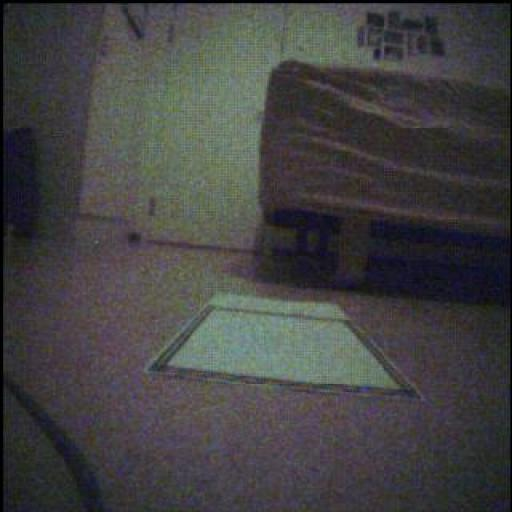pad: (148, 296, 420, 400)
